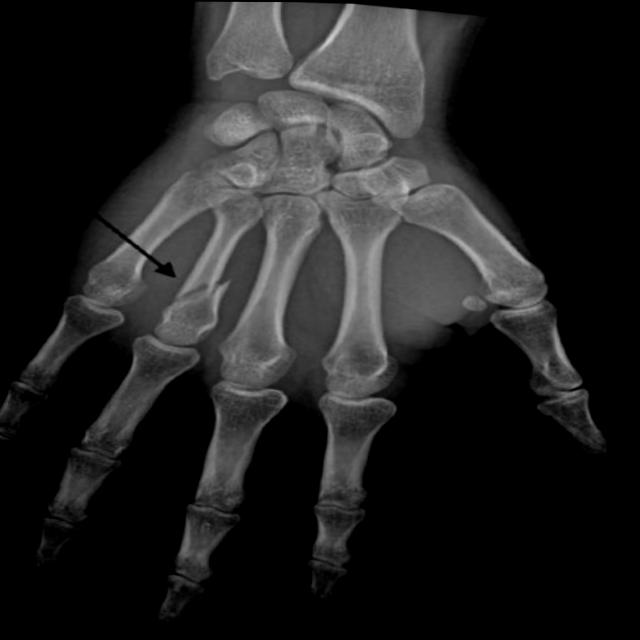Oblique Displaced: (155, 248, 255, 345)
